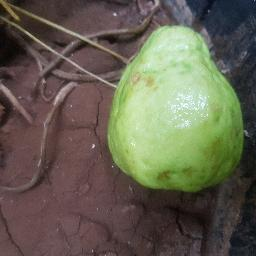Good_guava: (106, 19, 249, 203)
